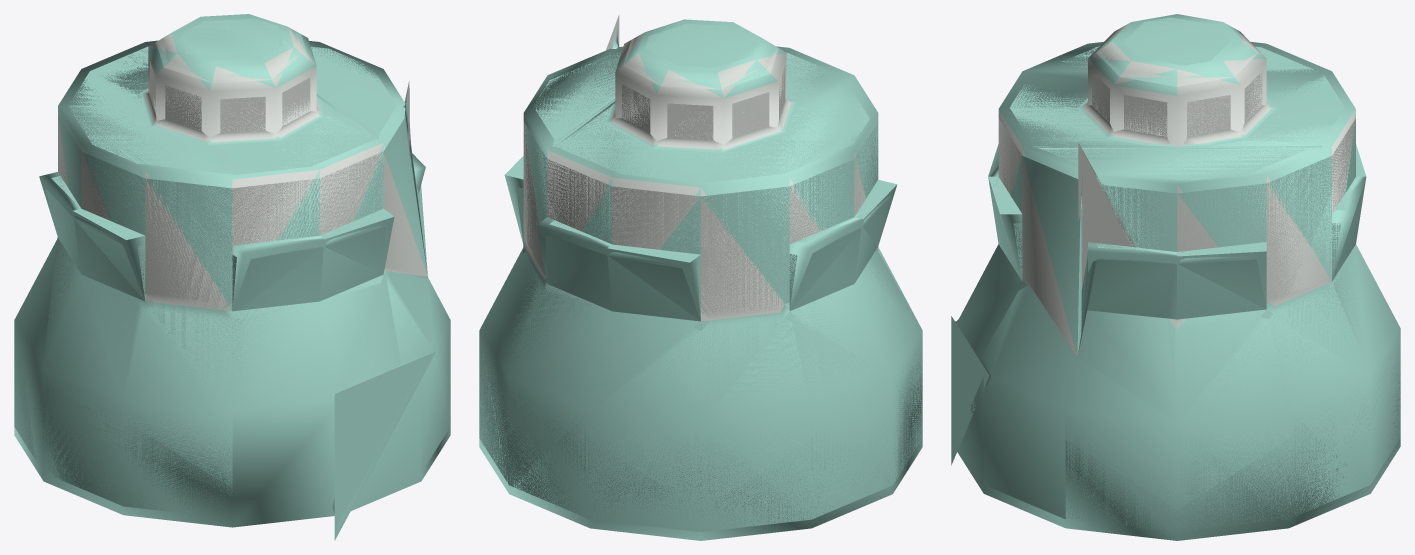
The model's file is tower-defense-kit__tower-round-bottom-c.glb.
The picture shows the model from 3 angles, left to right: view 1: azimuth 30°, elevation 25°; view 2: azimuth 150°, elevation 25°; view 3: azimuth 270°, elevation 25°; orthographic projection. The views are drawn at different scales.
Parts seen in each view (by area): view 1: L0_accent, L1_accent, L0_metal, L1_metal; view 2: L0_accent, L1_accent, L0_metal, L1_metal; view 3: L0_accent, L1_accent, L0_metal, L1_metal.
Part boxes in pixels (<box>): L0_accent: <box>14,18,450,540</box>; L1_accent: <box>14,14,450,527</box>; L0_metal: <box>58,34,427,310</box>; L1_metal: <box>58,27,385,311</box>; L0_accent: <box>479,23,922,531</box>; L1_accent: <box>479,19,922,540</box>; L0_metal: <box>523,14,864,320</box>; L1_metal: <box>523,32,865,321</box>; L0_accent: <box>951,17,1400,531</box>; L1_accent: <box>956,14,1400,540</box>; L0_metal: <box>998,27,1355,356</box>; L1_metal: <box>998,22,1355,297</box>.
Bounding box in the file's own units: 1 × 1.06 × 1.01.
